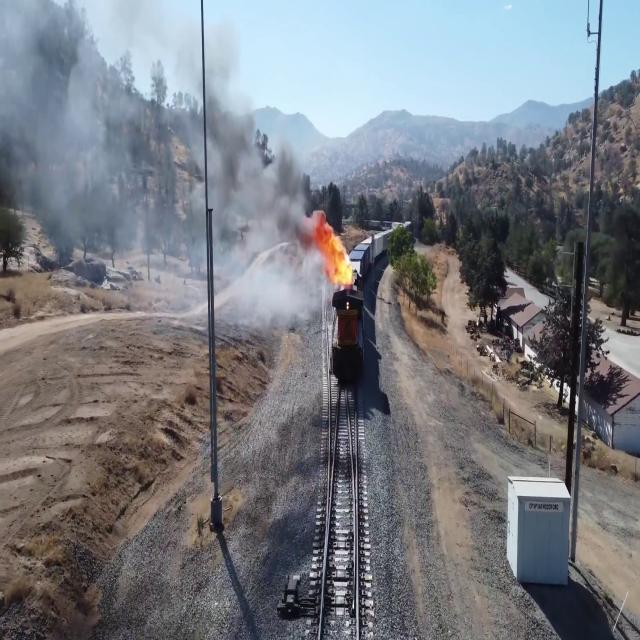Fire: (313, 220, 355, 290)
Smoke: (256, 168, 312, 257), (207, 113, 246, 181)
